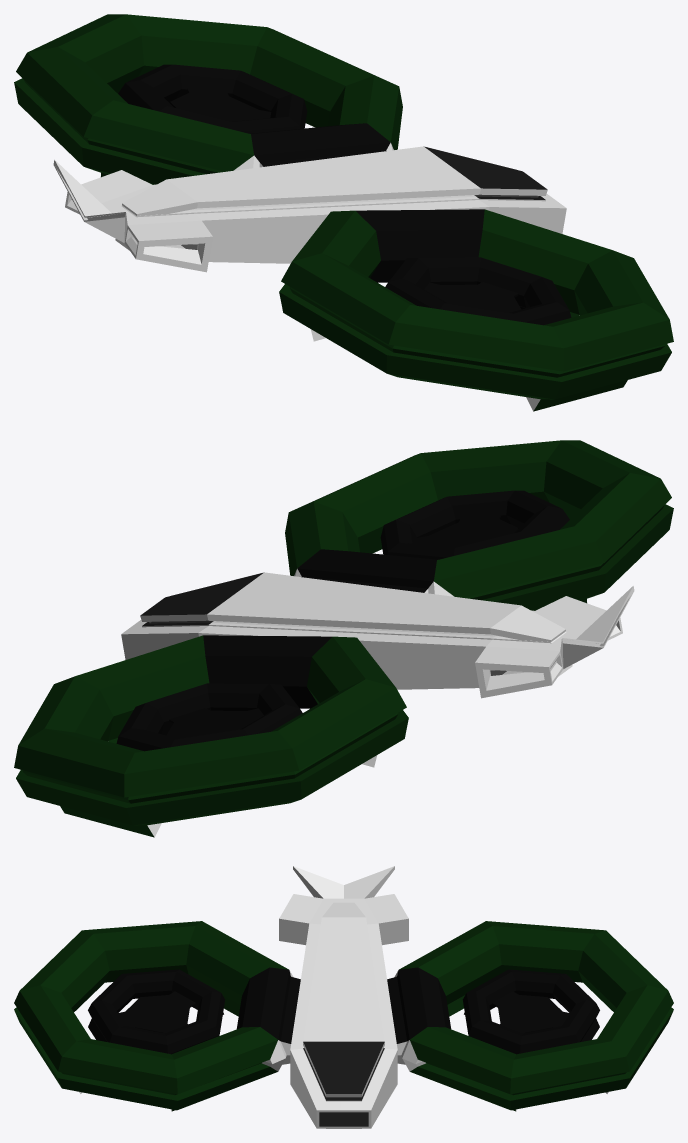
Rendered from DroneTowerDefend.fbx.
3 views of the same model, one above another, from view 1: azimuth 30°, elevation 25°; view 2: azimuth 150°, elevation 25°; view 3: azimuth 270°, elevation 25° (orthographic). The views are drawn at different scales.
Parts seen in each view (by area): view 1: Cube; view 2: Cube; view 3: Cube.
Part boxes in pixels (x1,y1,x2,y2): Cube: (14,14,673,411); Cube: (14,440,673,837); Cube: (14,866,673,1128).
Size of the model in its own units: 709 by 231 by 1229.
